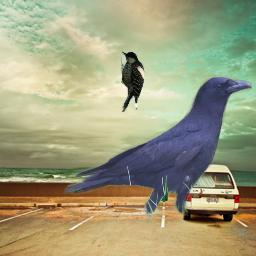Crow: (63, 75, 252, 228)
Woodpecker: (121, 51, 145, 112)
